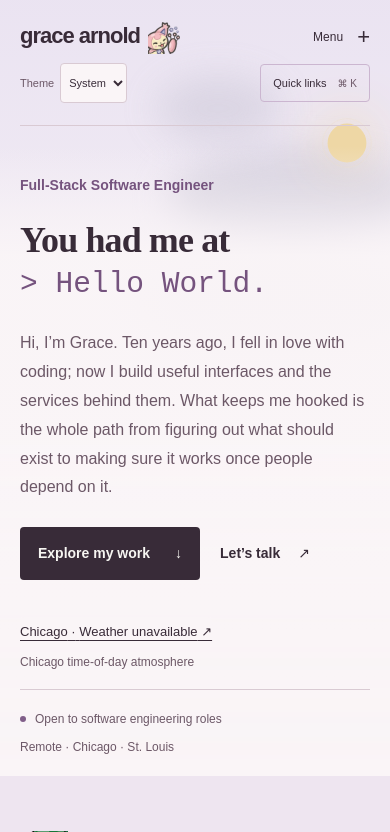
Test: Recruiter journeys › opens navigation and closes it when a destination is selected
Click the button "Menu +" at (336, 36), box [301,10,370,63]
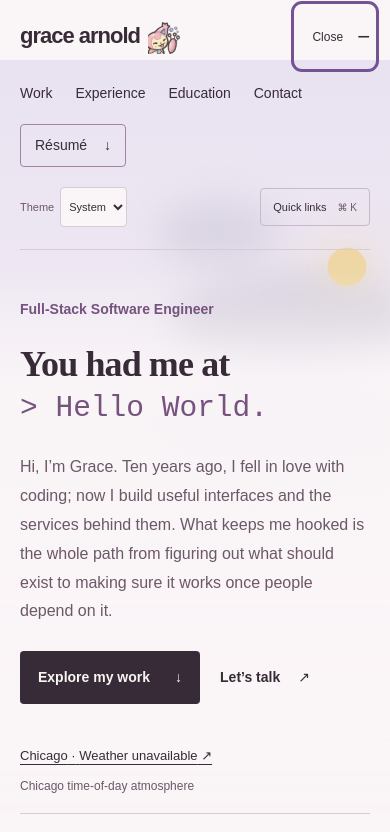
Expected: the button named "Menu" is expanded, [300,10,370,63]
Click the link "Experience" at (110, 93), box [75,85,145,101]
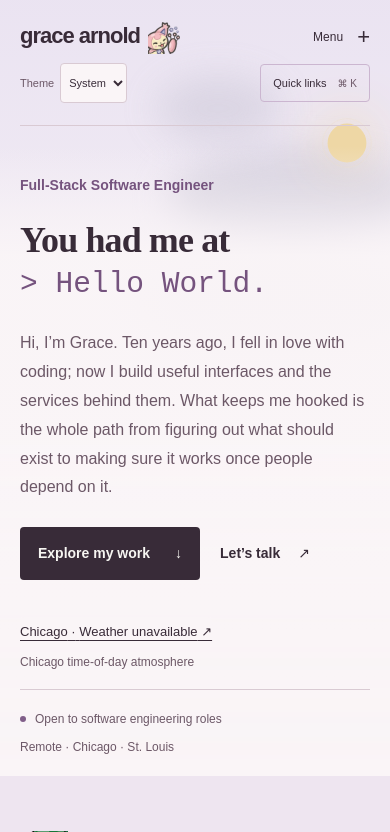
Expected: the button "Menu +" is collapsed, [301,10,370,63]
